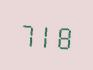eight: (55, 20, 72, 51)
one: (37, 19, 54, 50)
seven: (18, 18, 35, 49)
